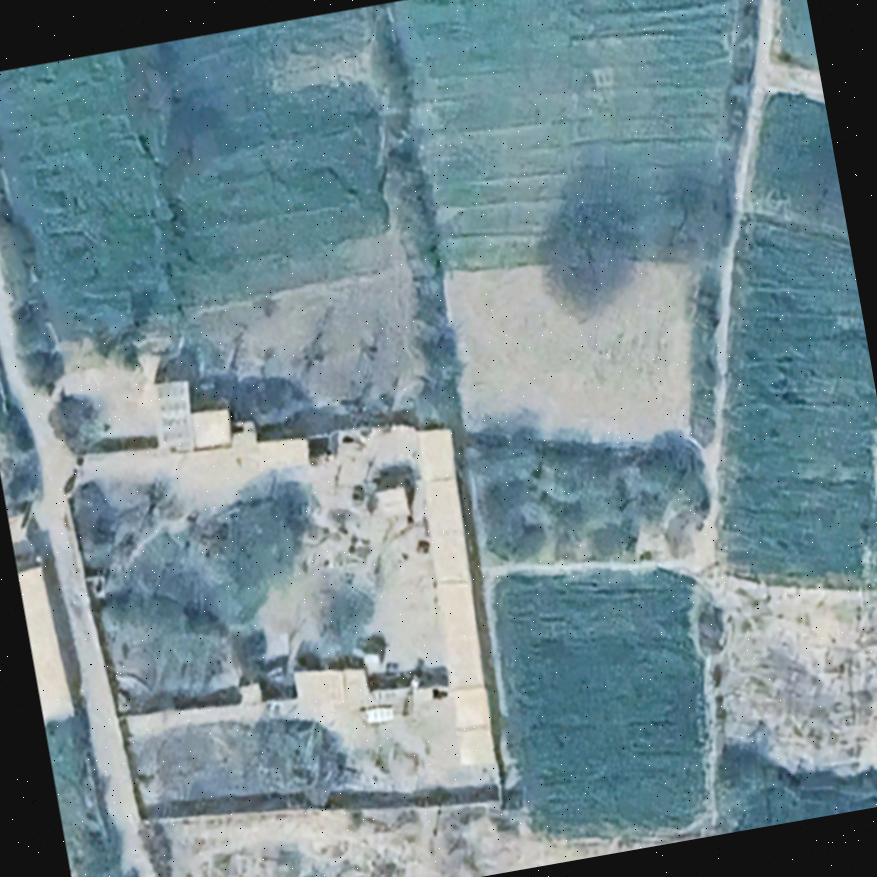Solarpanel: (157, 380, 193, 445), (360, 703, 395, 724)
